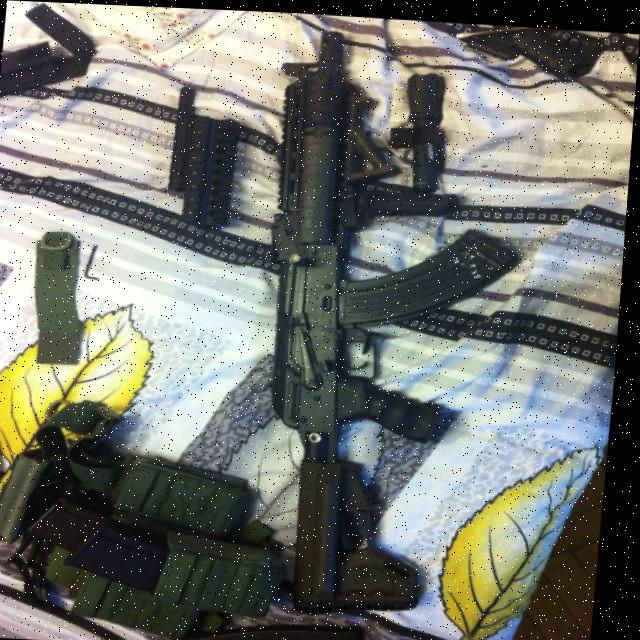firearm: (239, 25, 539, 618)
knife: (451, 18, 599, 42)
